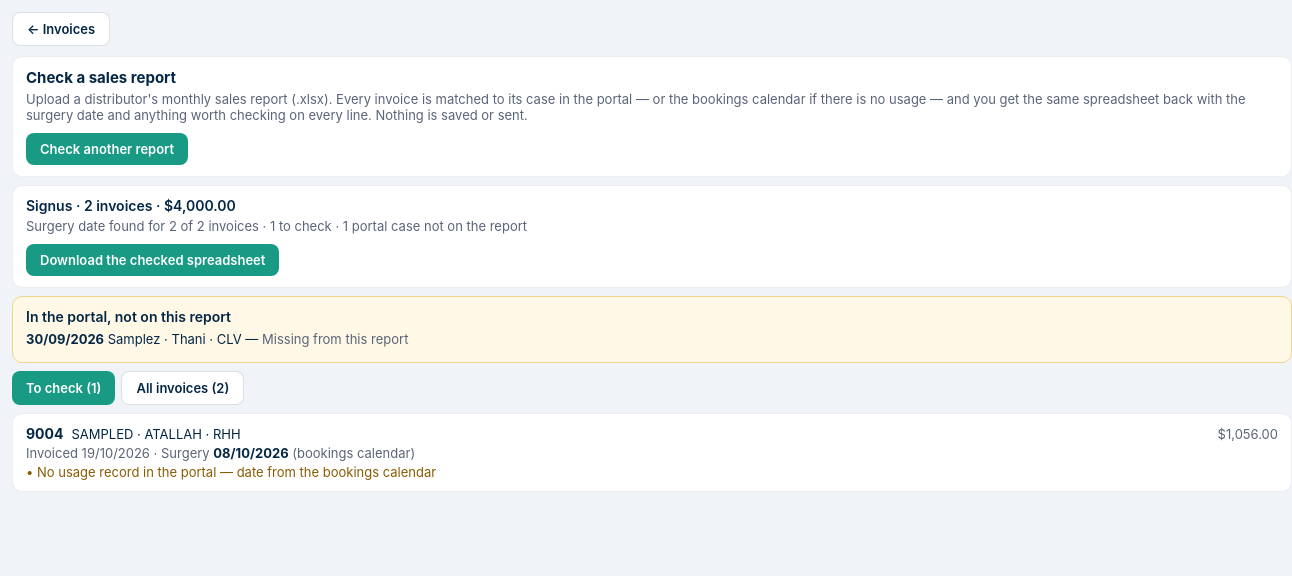
Test: Check a sales report › uploads the report and shows what to check, the cases not billed, and the download
Earlier steps of the test are not shown.
Expected: the element that starts with "Signus" is shown, top-left (12, 185), bottom-right (1291, 288)
Expected: the text "Surgery date found for 2 of 2 invoices · 1 to check" is shown, top-left (26, 218), bottom-right (527, 234)
Click the button "All invoices (2)".
click(183, 388)  # box top-left (121, 371), bottom-right (244, 405)
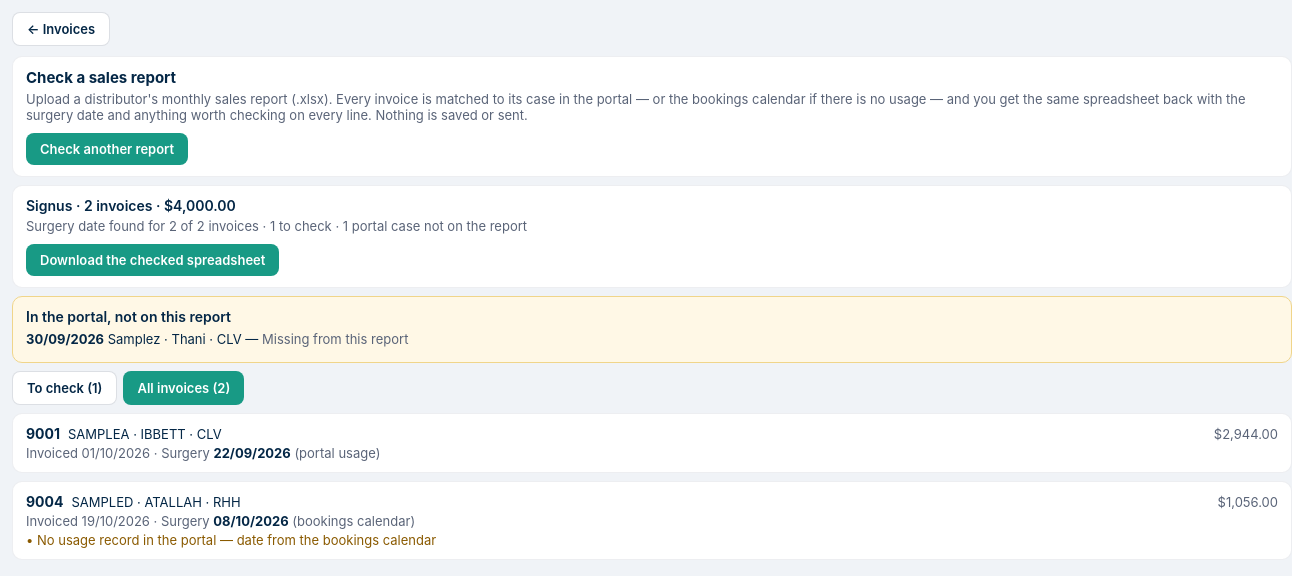
Expected: the button "Download the checked spreadsheet" is shown, top-left (26, 244), bottom-right (279, 276)
Result: the element that starts with "SAMPLEA" shows "22/09/2026" at top-left (214, 445), bottom-right (291, 461)
